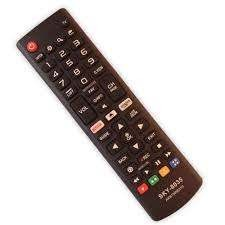remote control: (5, 6, 207, 225)
